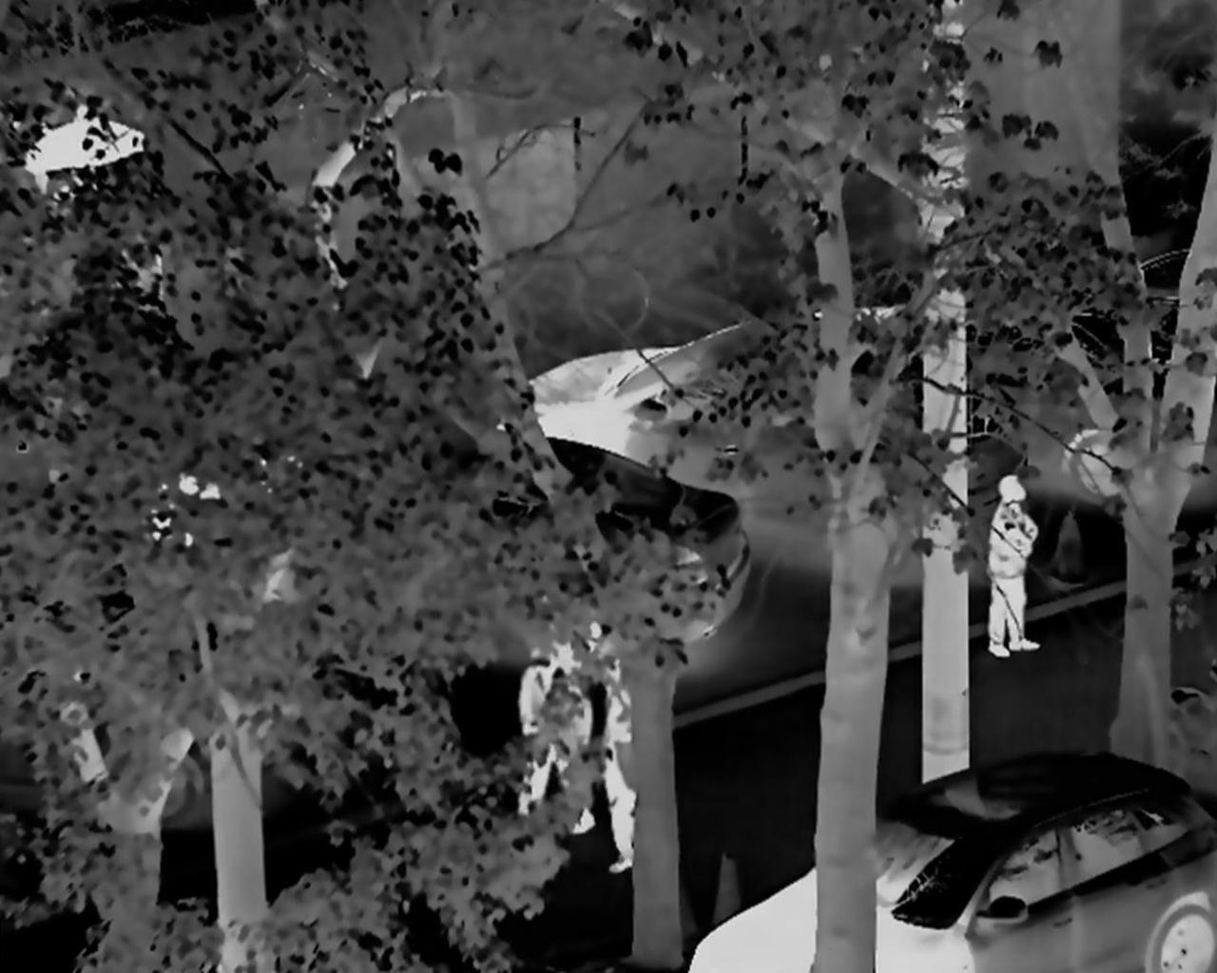person: (511, 639, 598, 832), (970, 469, 1044, 658), (595, 659, 648, 883)
